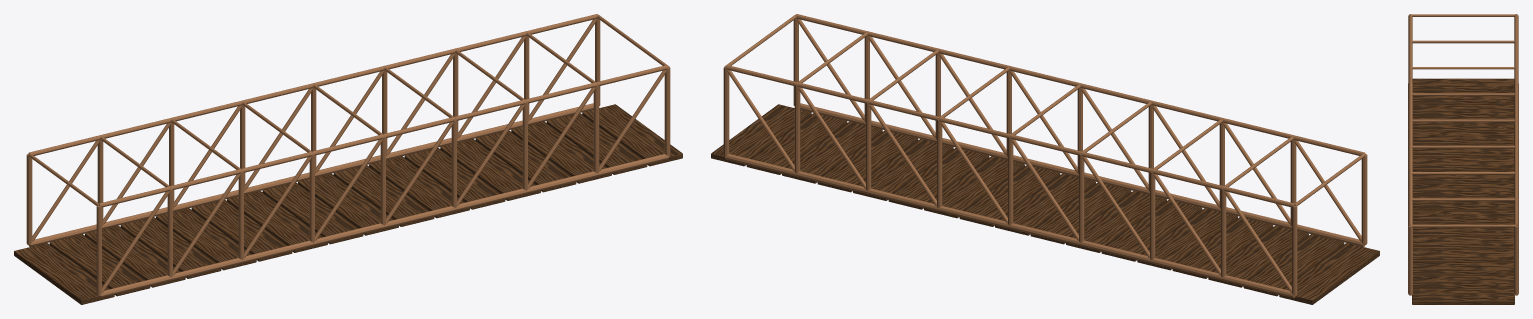
The model's file is bridge.glb.
The picture shows the model from 3 angles, left to right: view 1: azimuth 30°, elevation 25°; view 2: azimuth 150°, elevation 25°; view 3: azimuth 270°, elevation 25°; orthographic projection. The views are drawn at different scales.
Visible parts, largest first — view 1: BottomRail_-1, BottomRail_1, Deck_0, Deck_16, Deck_6, Deck_4, Deck_12, Deck_8, Deck_2, Deck_14, Deck_10, Deck_1 (+34 smaller); view 2: BottomRail_1, BottomRail_-1, Deck_0, Deck_16, Deck_6, Deck_4, Deck_12, Deck_8, Deck_2, Deck_14, Deck_10, Deck_1 (+34 smaller); view 3: Deck_16, Deck_0, Deck_10, Deck_12, Deck_13, Deck_14, Deck_4, Deck_6, Deck_1, Deck_15, Deck_2, Deck_8 (+34 smaller).
Part boxes in pixels (box(x1,y1,x2,y2)): BottomRail_-1: box(98, 154, 668, 297); BottomRail_1: box(28, 103, 593, 246); Deck_0: box(14, 243, 114, 304); Deck_16: box(582, 104, 682, 166); Deck_6: box(227, 191, 327, 252); Deck_4: box(156, 208, 256, 270); Deck_12: box(440, 139, 540, 200); Deck_8: box(298, 173, 398, 235); Deck_2: box(85, 225, 185, 287); Deck_14: box(511, 121, 611, 183); Deck_10: box(369, 156, 469, 218); Deck_1: box(49, 234, 150, 296); BottomRail_1: box(725, 154, 1295, 297); BottomRail_-1: box(800, 103, 1365, 246); Deck_0: box(1279, 243, 1379, 304); Deck_16: box(711, 104, 811, 166); Deck_6: box(1066, 191, 1166, 252); Deck_4: box(1137, 208, 1237, 270); Deck_12: box(853, 139, 953, 200); Deck_8: box(995, 173, 1095, 235); Deck_2: box(1208, 225, 1308, 287); Deck_14: box(782, 121, 882, 183); Deck_10: box(924, 156, 1024, 218); Deck_1: box(1243, 234, 1344, 296); Deck_16: box(1412, 289, 1514, 304); Deck_0: box(1412, 78, 1514, 91); Deck_10: box(1413, 210, 1513, 223); Deck_12: box(1413, 236, 1513, 249); Deck_13: box(1413, 249, 1513, 262); Deck_14: box(1413, 262, 1513, 275); Deck_4: box(1413, 131, 1513, 144); Deck_6: box(1413, 157, 1513, 170); Deck_1: box(1413, 91, 1513, 104); Deck_15: box(1413, 276, 1513, 288); Deck_2: box(1413, 105, 1513, 117); Deck_8: box(1413, 184, 1513, 196).
Bounding box in the file's own units: 16.95 × 2.65 × 3.56.
2 materials, 1 textured.
